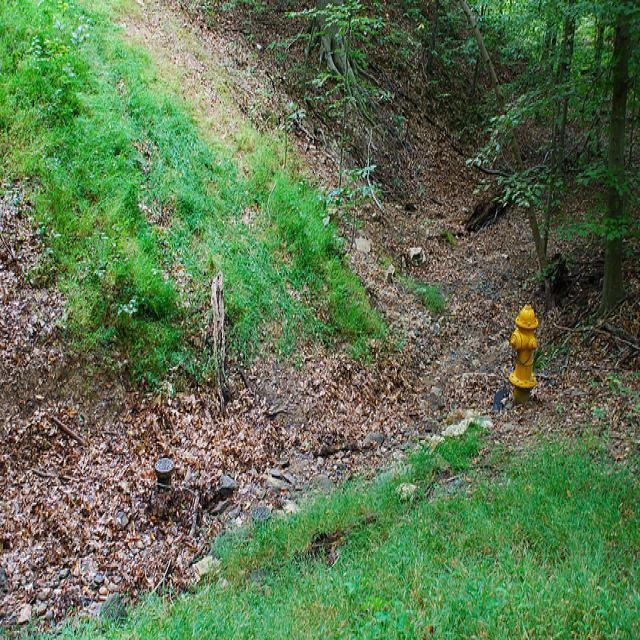fire_hydrant: (509, 298, 539, 400)
